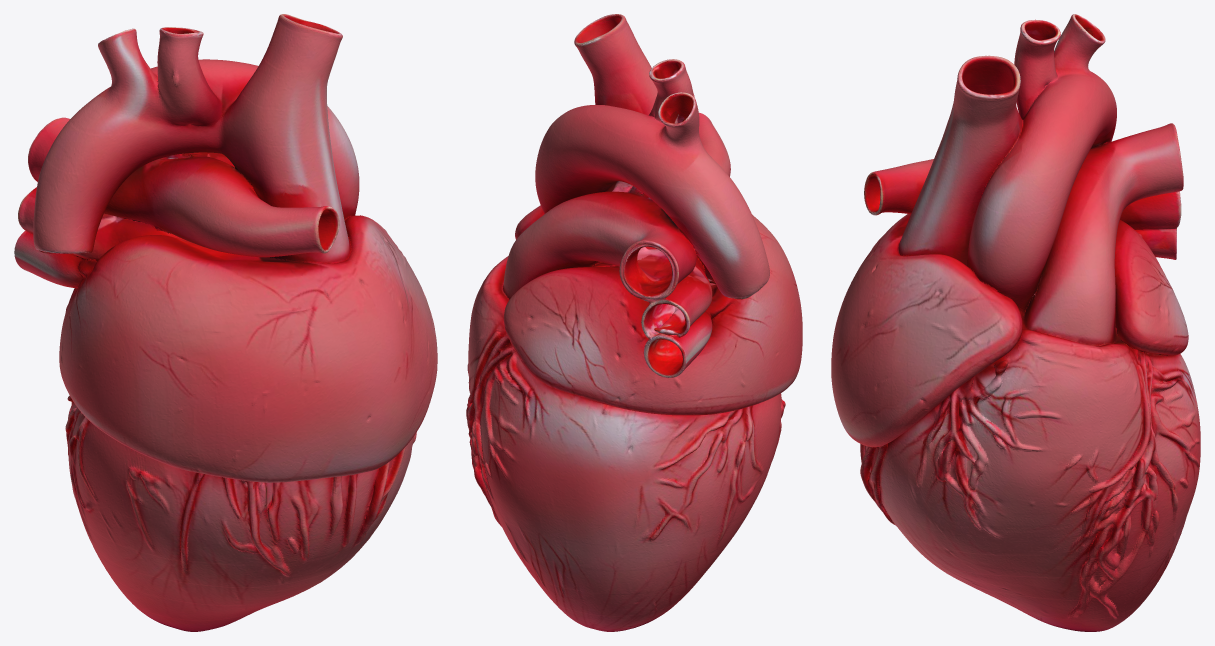
File: pinker-heart.glb
3 renders of one model, left to right at view 1: azimuth 30°, elevation 25°; view 2: azimuth 150°, elevation 25°; view 3: azimuth 270°, elevation 25°, orthographic. The views are drawn at different scales.
Parts seen in each view (by area): view 1: tripo_node_e006727d-cdb8-4c79-8c01-e3554822ed57; view 2: tripo_node_e006727d-cdb8-4c79-8c01-e3554822ed57; view 3: tripo_node_e006727d-cdb8-4c79-8c01-e3554822ed57.
Part boxes in pixels (x1=…): tripo_node_e006727d-cdb8-4c79-8c01-e3554822ed57: x1=14, y1=14, x2=437, y2=631; tripo_node_e006727d-cdb8-4c79-8c01-e3554822ed57: x1=466, y1=14, x2=802, y2=631; tripo_node_e006727d-cdb8-4c79-8c01-e3554822ed57: x1=831, y1=14, x2=1200, y2=631.
Size of the model in its own units: 0.555 by 1 by 0.5689.
1 material, 1 textured.
